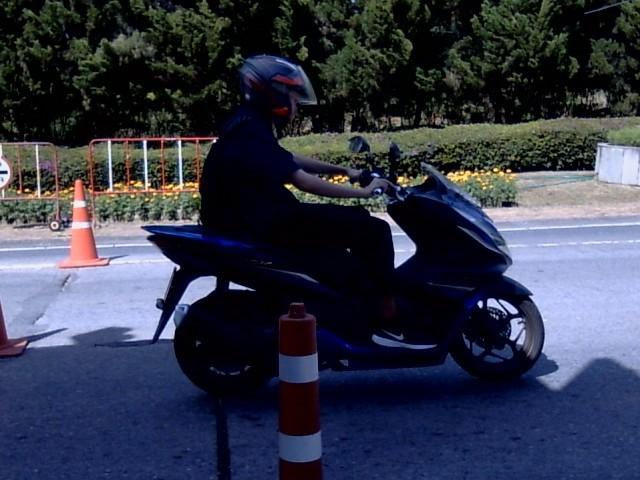helmet: (229, 48, 318, 134)
motor: (142, 163, 542, 395)
person: (199, 54, 433, 349)
